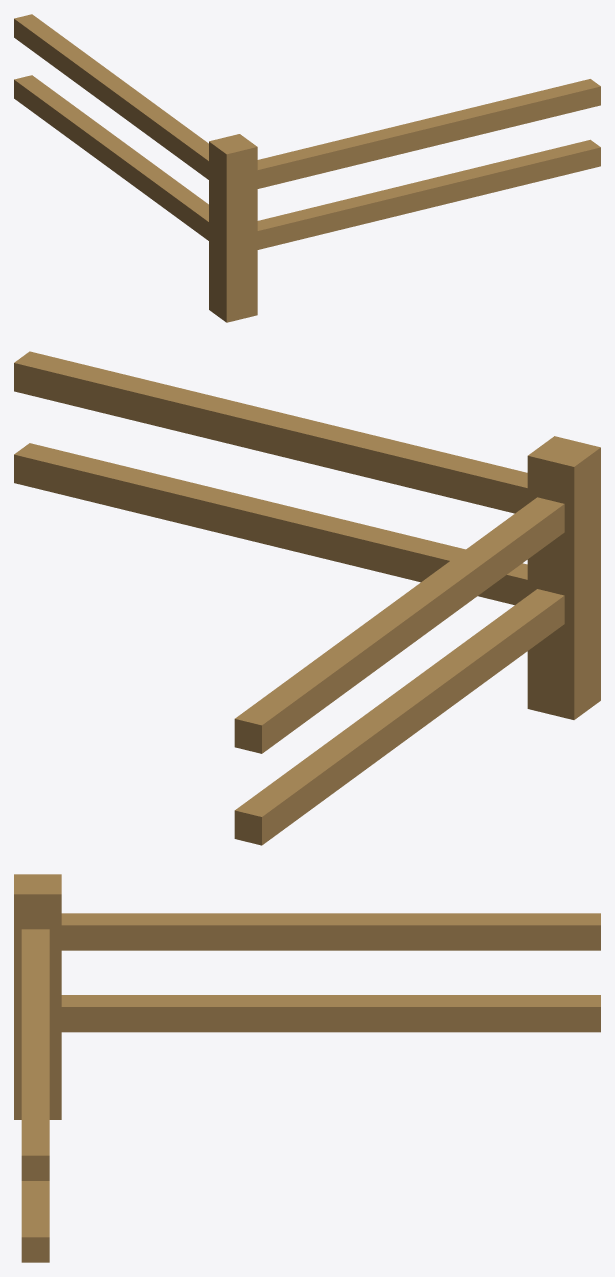
The model's file is угол.fbx.
The picture shows the model from 3 angles, top to bottom: view 1: azimuth 30°, elevation 25°; view 2: azimuth 150°, elevation 25°; view 3: azimuth 270°, elevation 25°; orthographic projection. The views are drawn at different scales.
Visible parts, largest first — view 1: Cube.006, Cube.007, Cube, Cube.002, Cube.003; view 2: Cube.007, Cube.006, Cube.003, Cube.002, Cube; view 3: Cube.003, Cube.002, Cube.007, Cube, Cube.006.
Part boxes in pixels (x1=…): Cube.006: x1=257, y1=139, x2=600, y2=249; Cube.007: x1=257, y1=79, x2=600, y2=188; Cube: x1=209, y1=134, x2=257, y2=322; Cube.002: x1=14, y1=75, x2=208, y2=240; Cube.003: x1=14, y1=14, x2=208, y2=179; Cube.007: x1=14, y1=351, x2=527, y2=513; Cube.006: x1=14, y1=443, x2=527, y2=605; Cube.003: x1=234, y1=497, x2=564, y2=753; Cube.002: x1=234, y1=589, x2=564, y2=845; Cube: x1=527, y1=436, x2=600, y2=719; Cube.003: x1=61, y1=913, x2=600, y2=950; Cube.002: x1=61, y1=995, x2=600, y2=1032; Cube.007: x1=21, y1=929, x2=49, y2=1180; Cube: x1=14, y1=874, x2=61, y2=1119; Cube.006: x1=21, y1=1181, x2=49, y2=1262.
Bounding box in the file's own units: 442 × 188 × 444.
